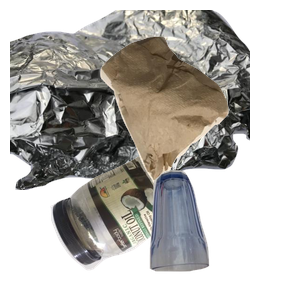glass: (147, 168, 300, 300)
metal: (10, 10, 250, 190)
plastic: (48, 152, 228, 300)
trash: (98, 34, 300, 211)
